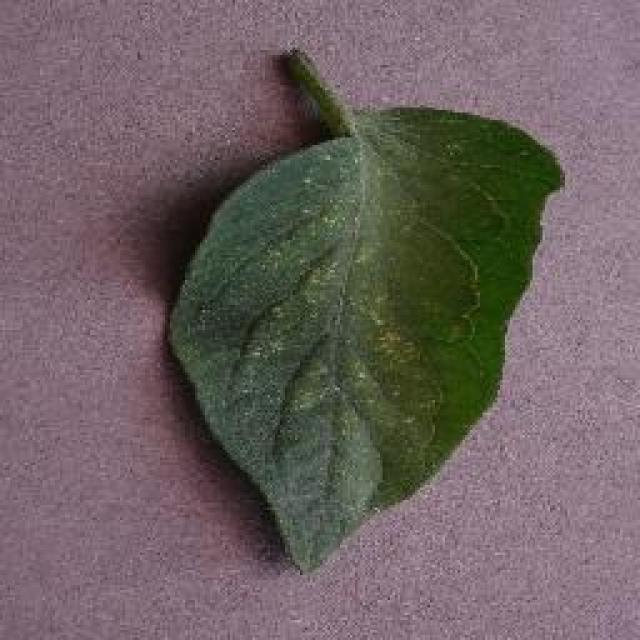Tomato___Spider_mites Two-spotted_spider_mite: (170, 50, 562, 568)
